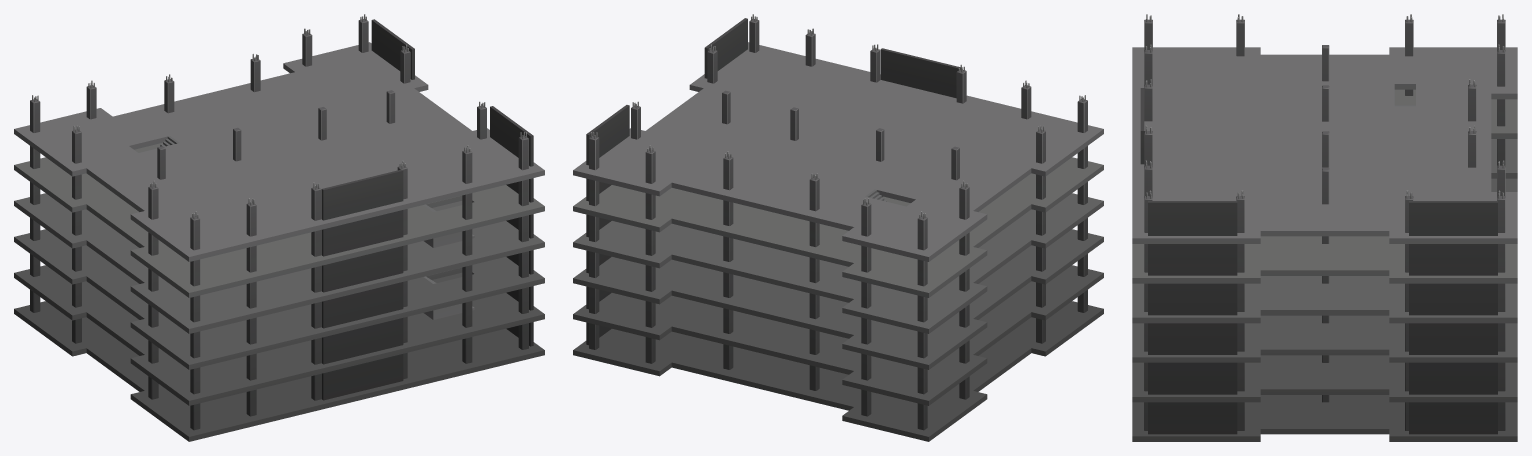
The model's file is cBuilding_1_1.obj.
3 renders of one model, left to right at view 1: azimuth 30°, elevation 25°; view 2: azimuth 150°, elevation 25°; view 3: azimuth 270°, elevation 25°, orthographic. The views are drawn at different scales.
Parts seen in each view (by area): view 1: cBuilding_1_1; view 2: cBuilding_1_1; view 3: cBuilding_1_1.
Part boxes in pixels (left/top/right/bottom): cBuilding_1_1: left=14, top=14, right=544, bottom=441; cBuilding_1_1: left=573, top=14, right=1103, bottom=441; cBuilding_1_1: left=1132, top=14, right=1517, bottom=441.
Size of the model in its own units: 29.25 by 17.33 by 24.92.
